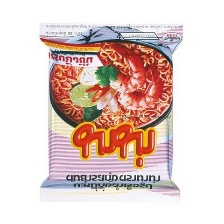snack: (31, 16, 189, 211)
